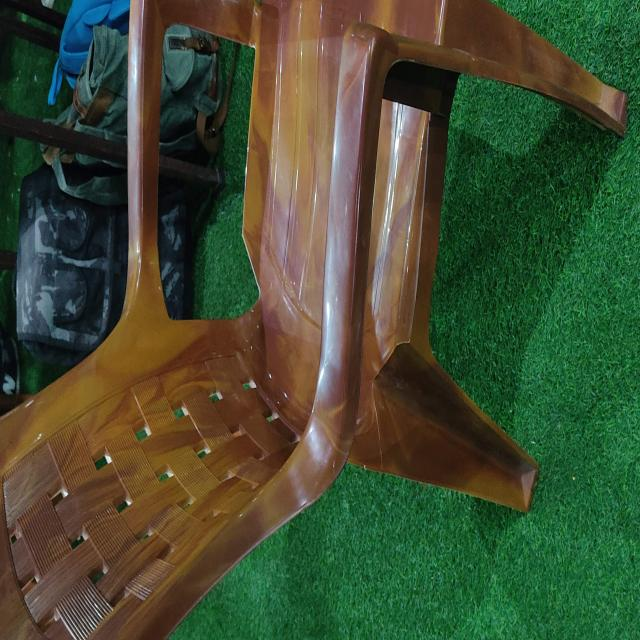Chair: (1, 1, 627, 638)
